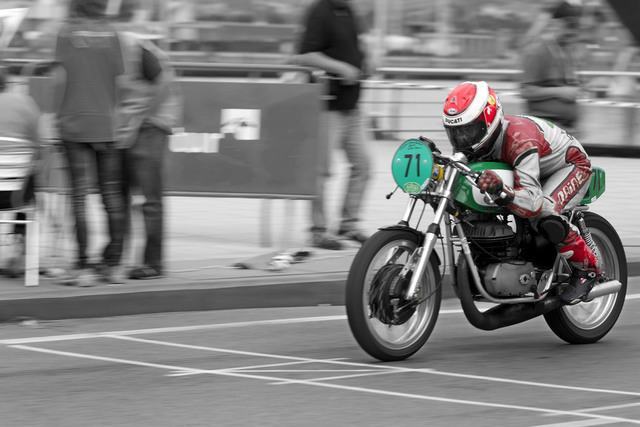helmet: (437, 84, 504, 145)
